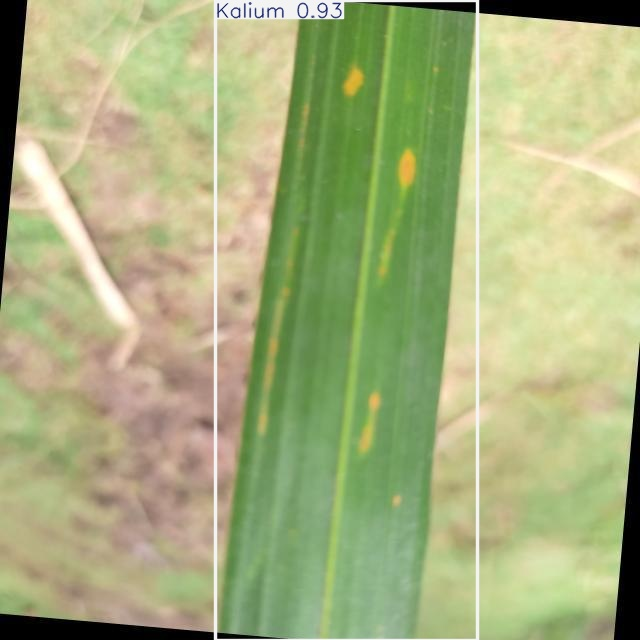Kalium: (215, 0, 477, 640)
